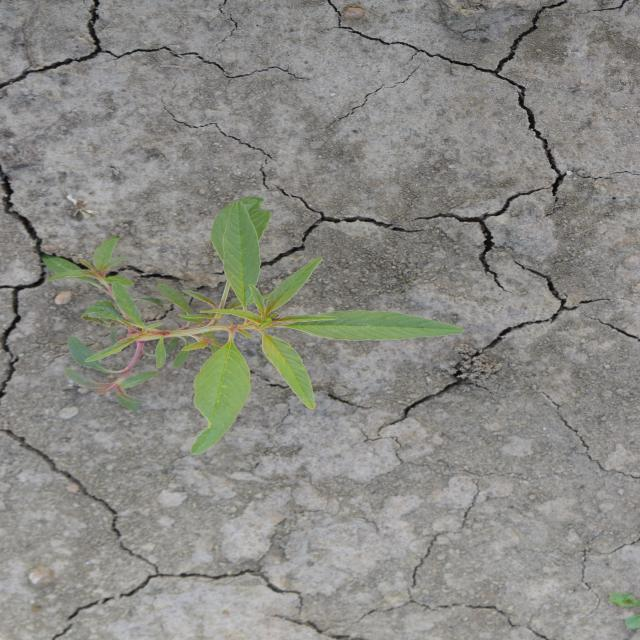Waterhemp: (38, 193, 467, 458)
